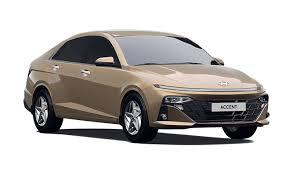hyundai: (213, 79, 232, 88)
